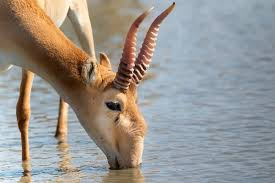saiga: (1, 1, 177, 183)
